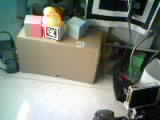duck: (31, 5, 73, 27)
